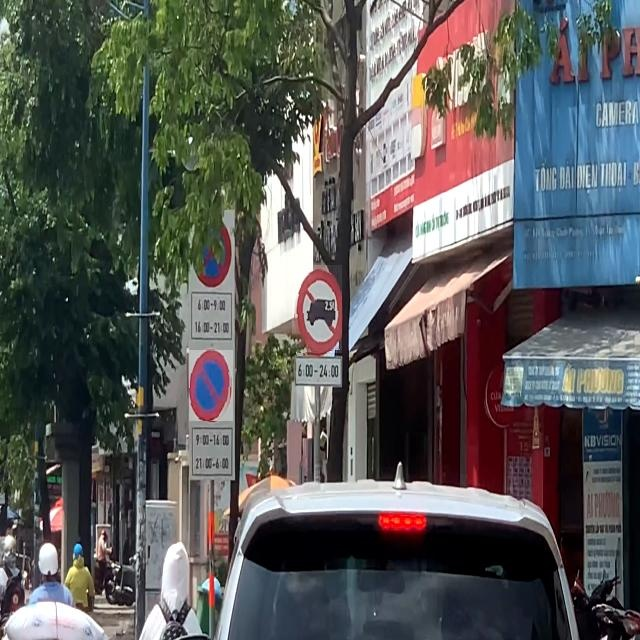bien_cam: (292, 265, 342, 353), (189, 350, 233, 421)
